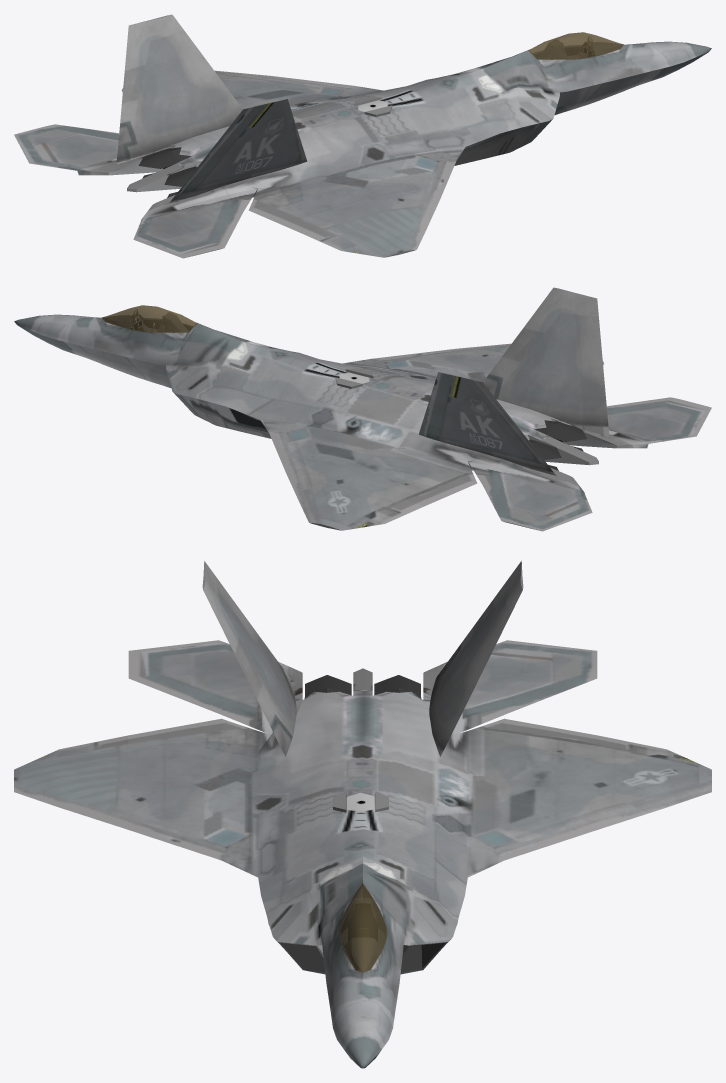
The picture shows the model from 3 angles, top to bottom: view 1: azimuth 30°, elevation 25°; view 2: azimuth 150°, elevation 25°; view 3: azimuth 270°, elevation 25°; orthographic projection. The views are drawn at different scales.
Visible parts, largest first — view 1: Cylinder; view 2: Cylinder; view 3: Cylinder.
Part boxes in pixels (box(x1,y1,x2,y2)): Cylinder: box(14, 14, 711, 258); Cylinder: box(14, 287, 711, 531); Cylinder: box(14, 561, 711, 1068).
Size of the model in its own units: 18.49 by 4 by 12.79.
Materials: 22 (6 with a texture image).
